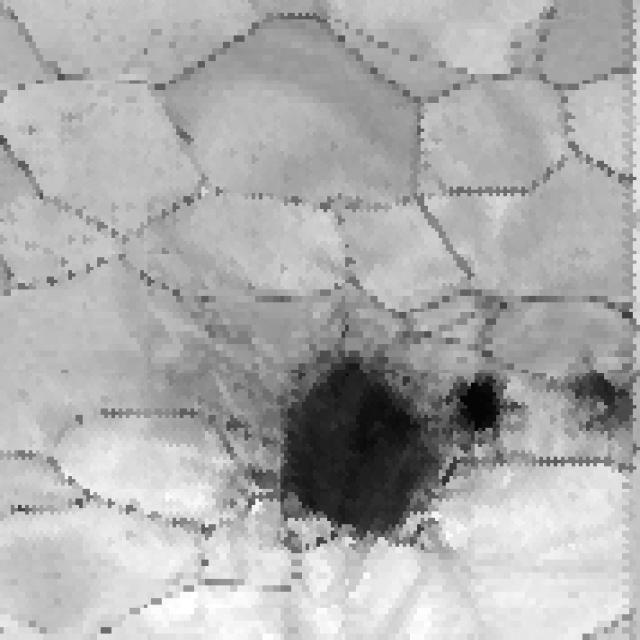good_void: (236, 343, 524, 563), (539, 366, 640, 447)
